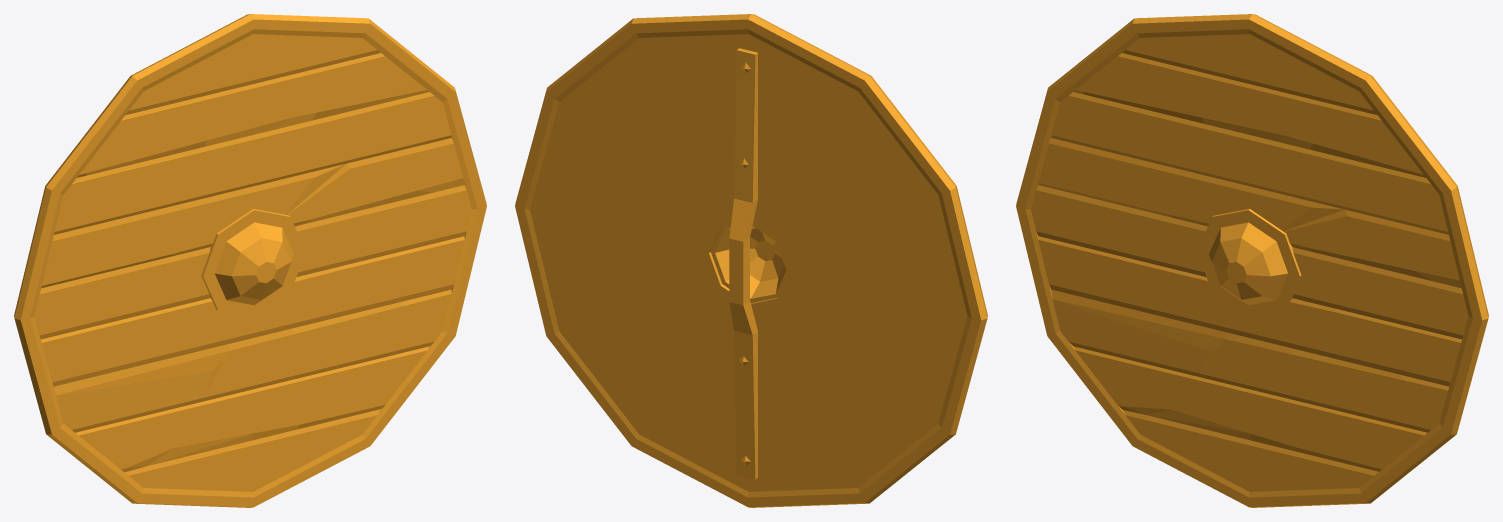
The model's file is SM_Shield_Round_E.fbx.
The picture shows the model from 3 angles, left to right: view 1: azimuth 30°, elevation 25°; view 2: azimuth 150°, elevation 25°; view 3: azimuth 330°, elevation 25°; orthographic projection.
Visible parts, largest first — view 1: shield-round-e; view 2: shield-round-e; view 3: shield-round-e.
Boxes of the visible parts, box(x1,y1,x2,y2) form: shield-round-e: box(14, 14, 486, 507); shield-round-e: box(515, 14, 987, 507); shield-round-e: box(1016, 14, 1488, 507).
Bounding box in the file's own units: 1.01 × 1.01 × 0.1152.
